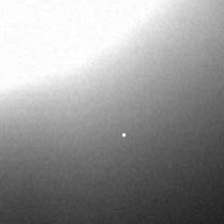Target: (121, 132, 128, 139)
